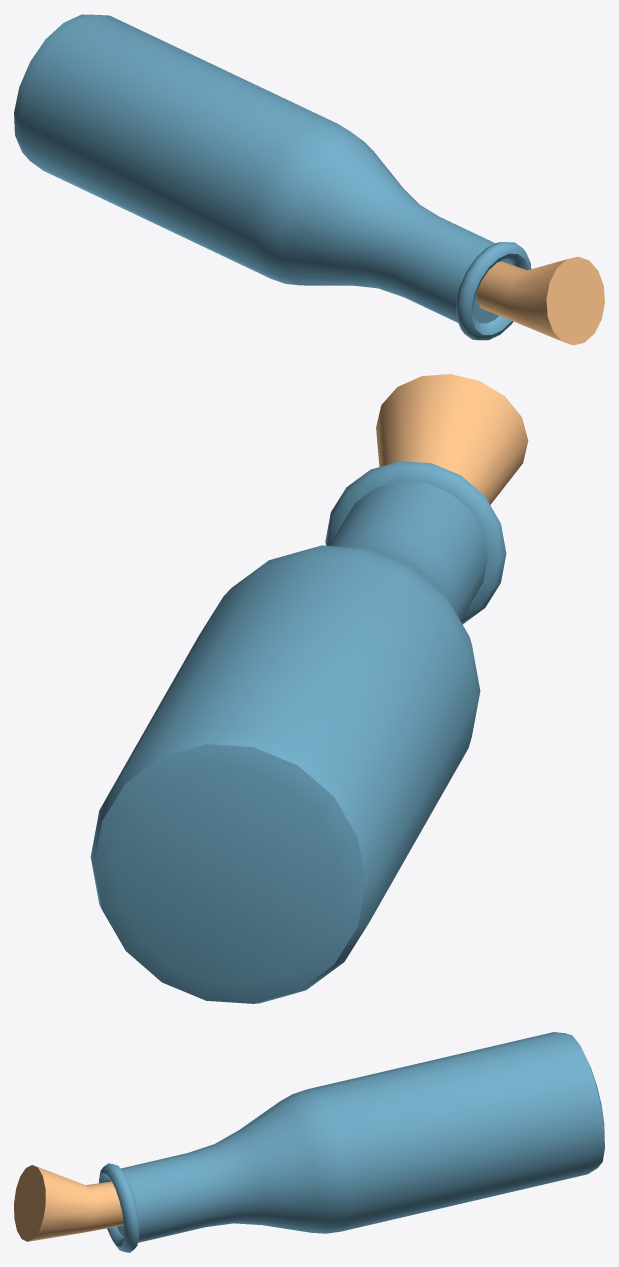
File: bottle.FBX
3 views of the same model, one above another, from view 1: azimuth 30°, elevation 25°; view 2: azimuth 150°, elevation 25°; view 3: azimuth 270°, elevation 25° (orthographic). The views are drawn at different scales.
Visible parts, largest first — view 1: Bottle; view 2: Bottle; view 3: Bottle.
Part boxes in pixels (x1=…): Bottle: x1=14, y1=14, x2=604, y2=345; Bottle: x1=90, y1=374, x2=528, y2=1003; Bottle: x1=14, y1=1032, x2=604, y2=1252.
Size of the model in its own units: 1102 by 633 by 2233.
